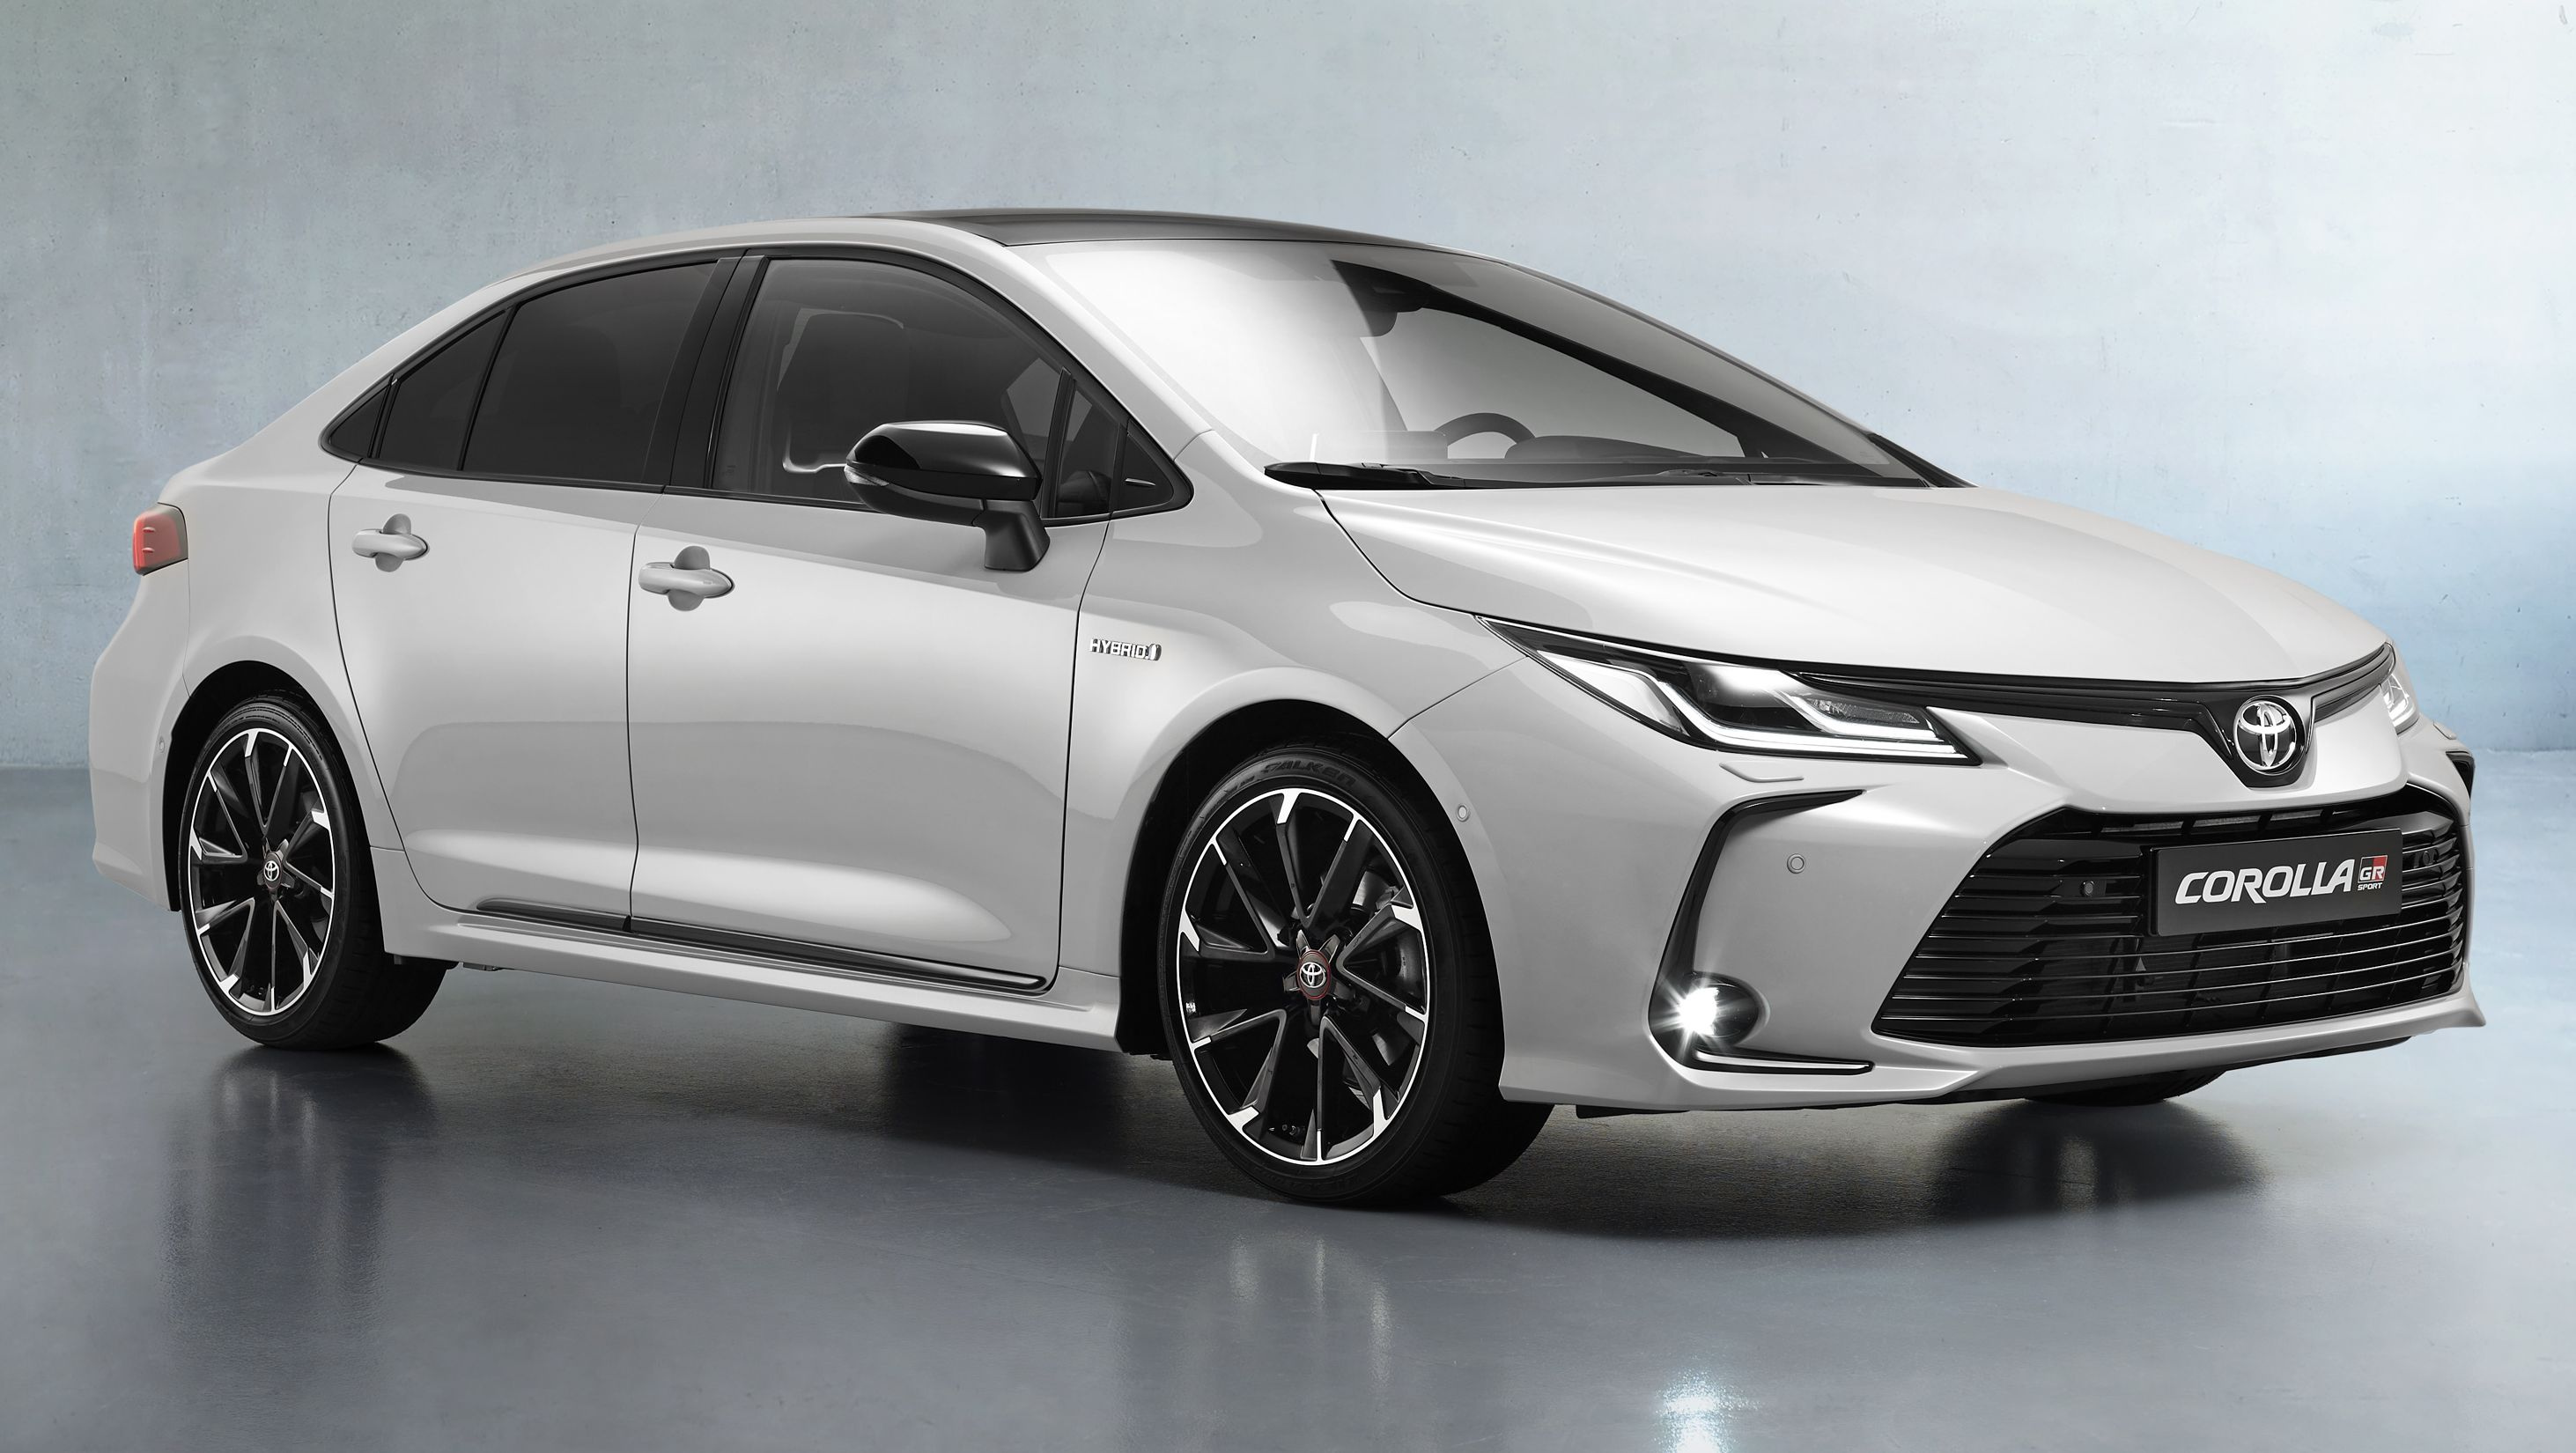car: (85, 207, 2486, 1209)
